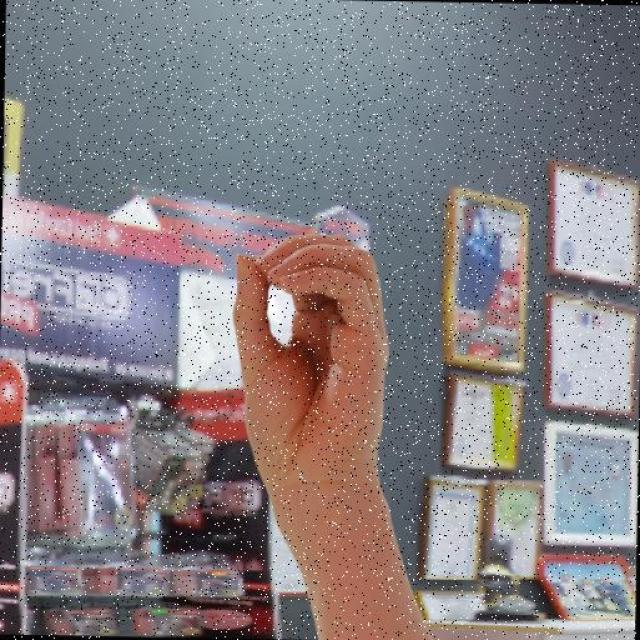O: (220, 208, 435, 526)
